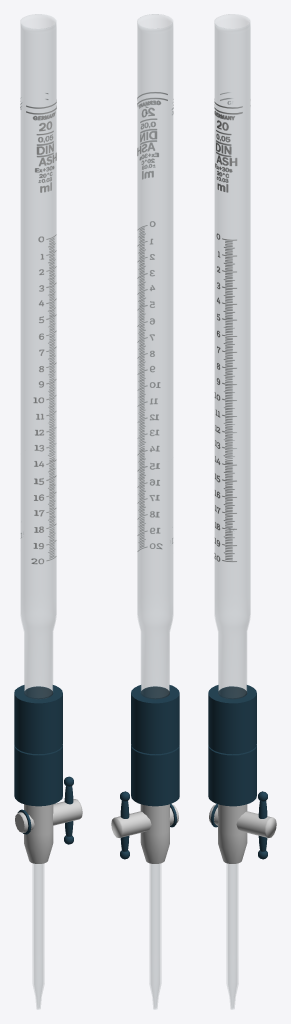
File: burette.glb
3 renders of one model, left to right at view 1: azimuth 30°, elevation 25°; view 2: azimuth 210°, elevation 25°; view 3: azimuth 330°, elevation 25°, orthographic.
Visible parts, largest first — view 1: model_0; view 2: model_0; view 3: model_0.
Part boxes in pixels (x1,y1,x2,y2): model_0: (14, 14, 82, 1009); model_0: (111, 14, 179, 1009); model_0: (208, 14, 276, 1009).
Size of the model in its own units: 0.033 by 0.5186 by 0.0232.
1 material, 1 textured.
